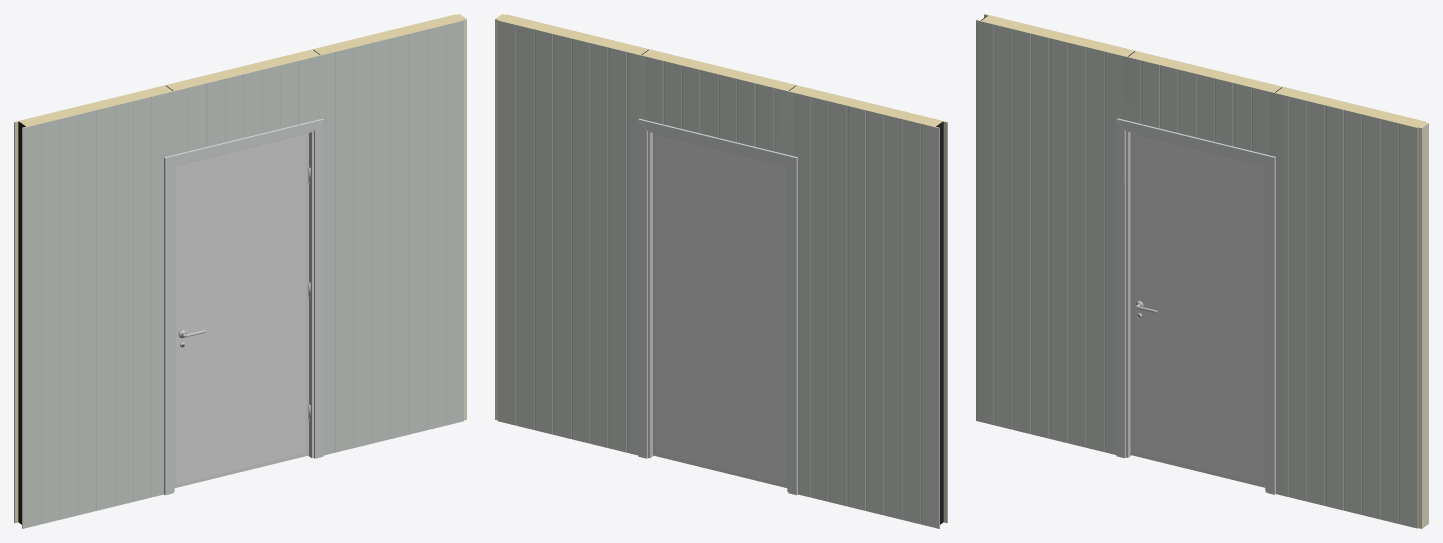
Rendered from office-3x7.glb.
3 views of the same model, side by side, from view 1: azimuth 30°, elevation 25°; view 2: azimuth 150°, elevation 25°; view 3: azimuth 330°, elevation 25° (orthographic).
Parts seen in each view (by area): view 1: Wall_p0_Steel_top, Wall_p2_Steel_top, SkinF, Wall_p1_Steel_top, TrimF_L, TrimF_R, Wall_p0_PIR_core, Wall_p0_Gasket, TrimF_T, LinerR, Wall_p1_PIR_core, Wall_p2_PIR_core (+6 smaller); view 2: Wall_p0_Steel_bottom, Wall_p2_Steel_bottom, SkinB, Wall_p1_Steel_bottom, TrimB_L, TrimB_R, Wall_p0_PIR_core, LinerR, Wall_p0_Gasket, TrimB_T, Wall_p1_PIR_core, Wall_p2_PIR_core (+6 smaller); view 3: Wall_p2_Steel_top, Wall_p0_Steel_top, SkinF, Wall_p1_Steel_top, Wall_p2_Tongue_tape, TrimF_R, TrimF_L, Wall_p2_PIR_core, LinerL, TrimF_T, Wall_p0_PIR_core, Wall_p1_PIR_core (+4 smaller).
Boxes of the visible parts, x1,y1,x2,y2 form: Wall_p0_Steel_top: [22, 92, 169, 528]; Wall_p2_Steel_top: [317, 20, 463, 455]; SkinF: [176, 135, 305, 484]; Wall_p1_Steel_top: [169, 56, 316, 155]; TrimF_L: [164, 157, 173, 495]; TrimF_R: [314, 120, 323, 458]; Wall_p0_PIR_core: [14, 86, 171, 522]; Wall_p0_Gasket: [18, 121, 25, 524]; TrimF_T: [164, 118, 323, 164]; LinerR: [308, 131, 313, 458]; Wall_p1_PIR_core: [161, 50, 318, 92]; Wall_p2_PIR_core: [309, 14, 466, 56]; Wall_p0_Steel_bottom: [792, 92, 939, 528]; Wall_p2_Steel_bottom: [498, 20, 644, 455]; SkinB: [656, 135, 785, 483]; Wall_p1_Steel_bottom: [645, 56, 792, 155]; TrimB_L: [788, 157, 797, 495]; TrimB_R: [638, 120, 647, 458]; Wall_p0_PIR_core: [790, 86, 947, 522]; LinerR: [648, 131, 653, 458]; Wall_p0_Gasket: [936, 121, 943, 524]; TrimB_T: [638, 118, 797, 164]; Wall_p1_PIR_core: [643, 50, 800, 92]; Wall_p2_PIR_core: [495, 14, 652, 56]; Wall_p2_Steel_top: [1270, 92, 1417, 528]; Wall_p0_Steel_top: [976, 20, 1123, 454]; SkinF: [1134, 134, 1263, 483]; Wall_p1_Steel_top: [1123, 56, 1270, 155]; Wall_p2_Tongue_tape: [1418, 123, 1428, 528]; TrimF_R: [1266, 157, 1275, 494]; TrimF_L: [1116, 119, 1125, 458]; Wall_p2_PIR_core: [1271, 86, 1428, 527]; LinerL: [1126, 130, 1131, 457]; TrimF_T: [1116, 118, 1275, 164]; Wall_p0_PIR_core: [976, 14, 1133, 56]; Wall_p1_PIR_core: [1124, 50, 1281, 92].
Size of the model in its own units: 3.02 by 2.6 by 0.133.
